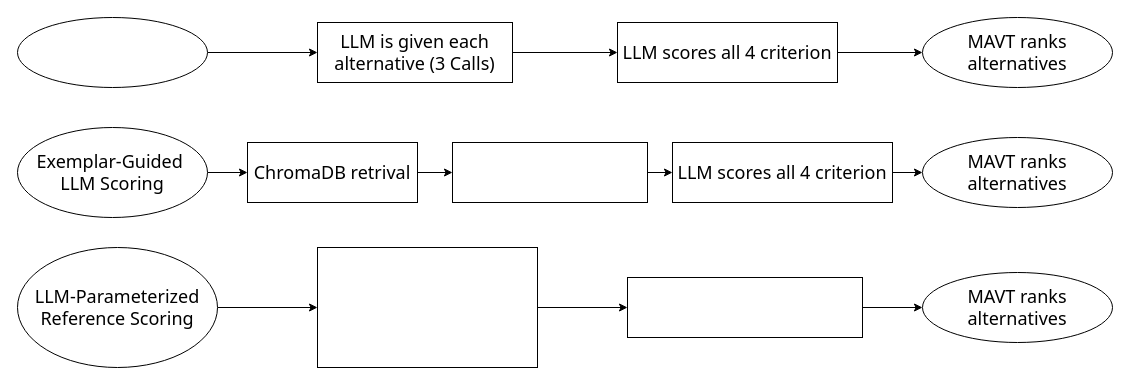
This 1130x385 diagram has some shape labels left out. Here are the shapes that lost their labels. From the top down, the centre of each, then its label:
At [112,52]: "Direct LLM Scoring".
At [550,172]: "LLM is given RAG context (3 calls)".
At [427,307]: "LLM extrapolates parameters from generalized information".
At [744,307]: "Calculator scores all 4 criterion".
